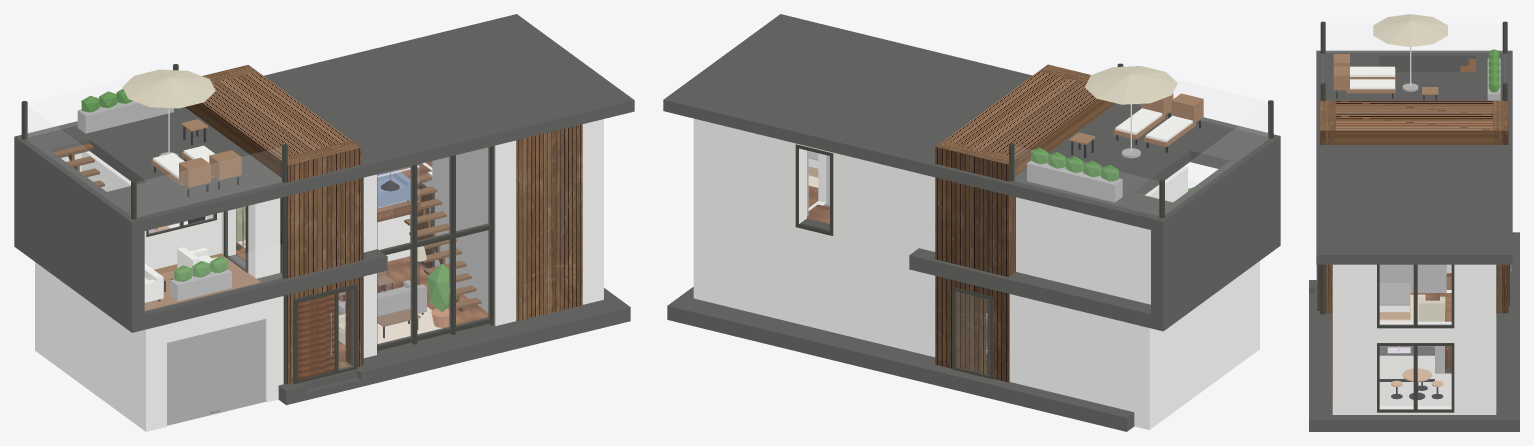
File: casa-moderna.glb
The picture shows the model from 3 angles, left to right: view 1: azimuth 30°, elevation 25°; view 2: azimuth 150°, elevation 25°; view 3: azimuth 270°, elevation 25°; orthographic projection. The views are drawn at different scales.
Visible parts, largest first — view 1: Box001, Box009, Box014, Box021; view 2: Box001, Box009, Box021; view 3: Box001, Box009, Box014.
Part boxes in pixels (x1,y1,x2,y2): Box001: (14, 14, 634, 431); Box009: (53, 65, 582, 384); Box014: (154, 161, 488, 379); Box021: (27, 105, 419, 270); Box001: (663, 14, 1280, 431); Box009: (825, 64, 1172, 382); Box021: (1188, 104, 1267, 188); Box001: (1309, 14, 1519, 431); Box009: (1320, 59, 1508, 406); Box014: (1410, 273, 1451, 372).
Bounding box in the file's own units: 0.5915 × 0.3332 × 0.2575.
6 materials, 6 textured.
